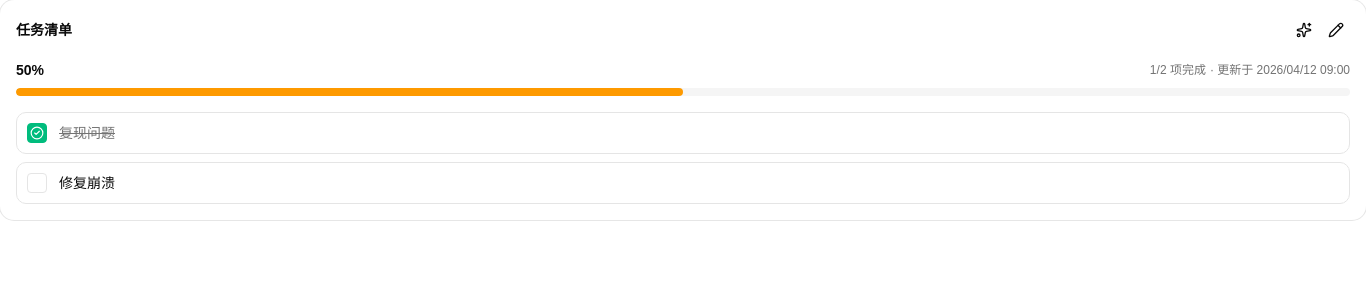
Test: IssueChecklistCard › saves the edited draft and exits edit mode
Click the button named "编辑" at (1336, 30), box [1322,16,1350,44]
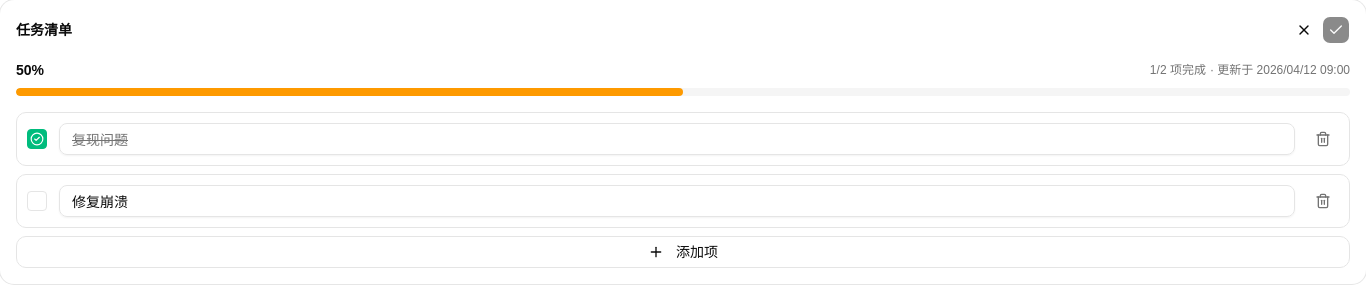
Replace the text in the 2nd field showing "修复崩溃" with "修复崩溃并回归" at (677, 201), box [59,185,1295,217]
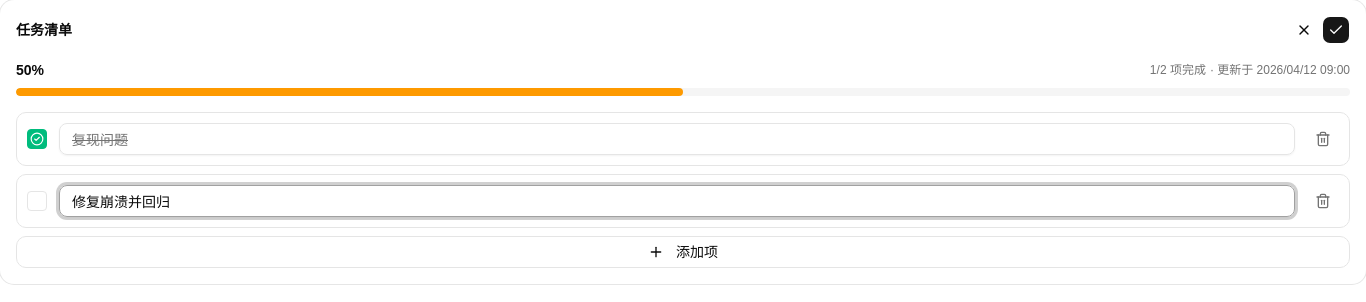
Click the button named "保存" at (1336, 30), box [1322,16,1350,44]
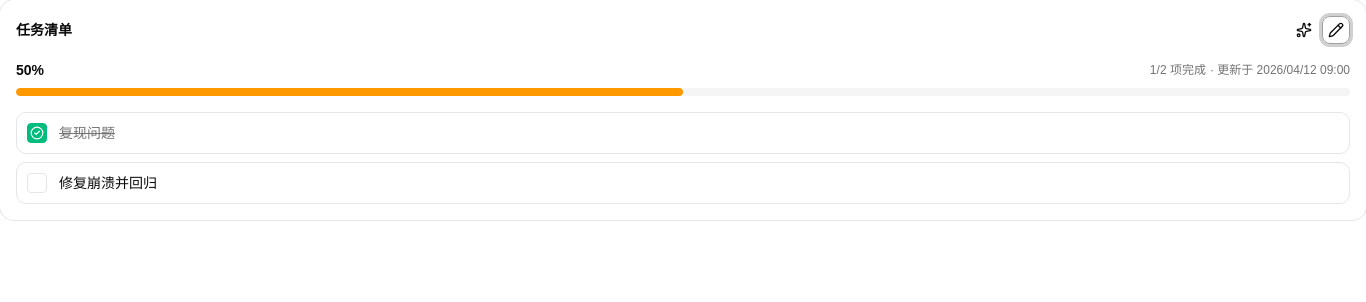
Check: the button named "编辑" is shown, box [1322,16,1350,44]
